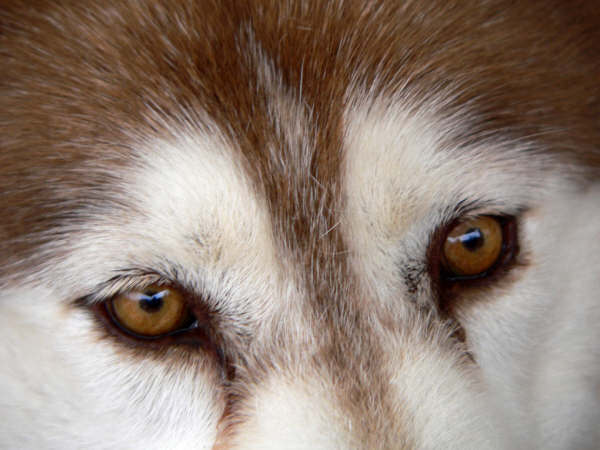dog: (0, 0, 598, 448)
